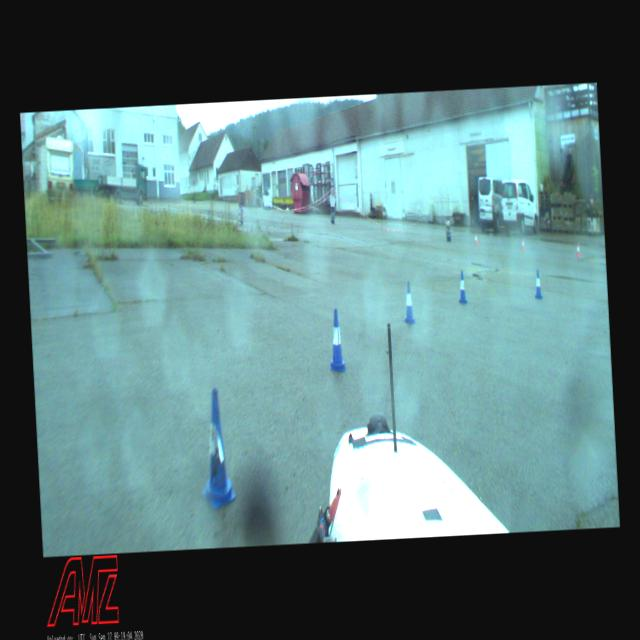blue_cone: (202, 388, 232, 504), (328, 309, 346, 372), (403, 282, 415, 322), (458, 270, 468, 304), (534, 270, 542, 298)
orange_cone: (576, 244, 580, 257), (474, 234, 478, 246), (522, 240, 525, 252)
